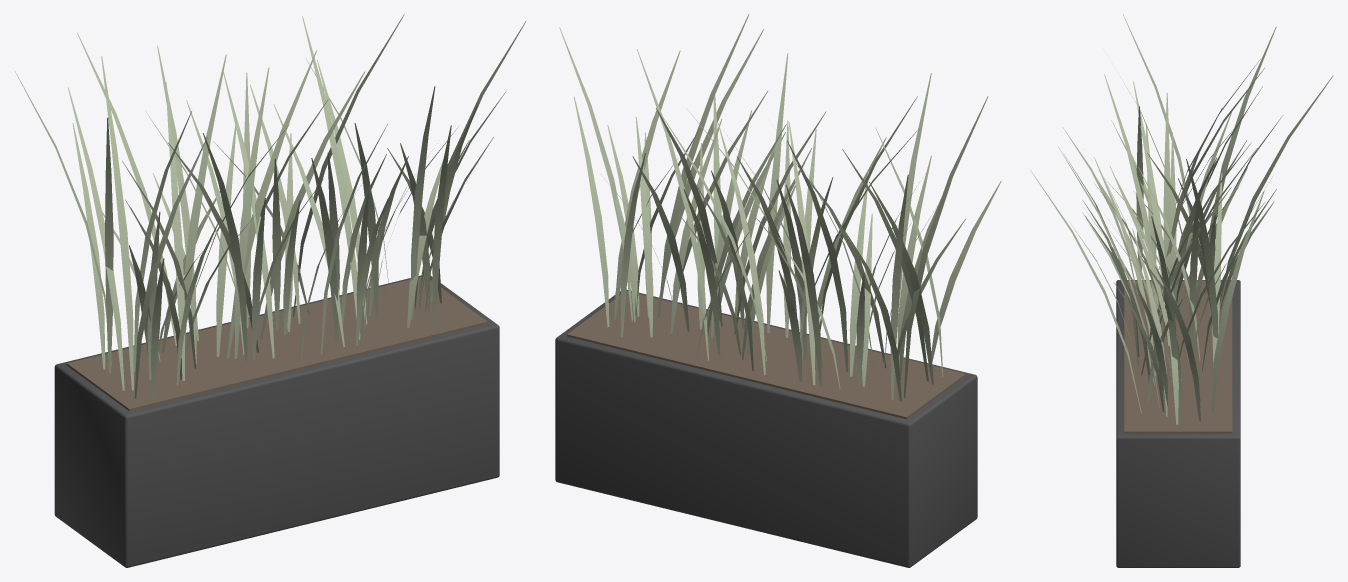
File: it_planter_grass.glb
3 views of the same model, side by side, from view 1: azimuth 30°, elevation 25°; view 2: azimuth 150°, elevation 25°; view 3: azimuth 270°, elevation 25° (orthographic). The views are drawn at different scales.
Parts seen in each view (by area): view 1: trough, grass, soil; view 2: trough, grass, soil; view 3: grass, trough, soil.
Boxes of the visible parts, x1=… form: trough: x1=54, y1=275, x2=499, y2=567; grass: x1=15, y1=14, x2=526, y2=398; soil: x1=66, y1=277, x2=487, y2=411; trough: x1=555, y1=290, x2=977, y2=567; grass: x1=559, y1=14, x2=1001, y2=401; soil: x1=567, y1=291, x2=965, y2=419; grass: x1=1030, y1=14, x2=1333, y2=424; trough: x1=1116, y1=280, x2=1240, y2=567; soil: x1=1124, y1=280, x2=1232, y2=433.
Bounding box in the file's own units: 1.06 × 1.04 × 0.7296.
